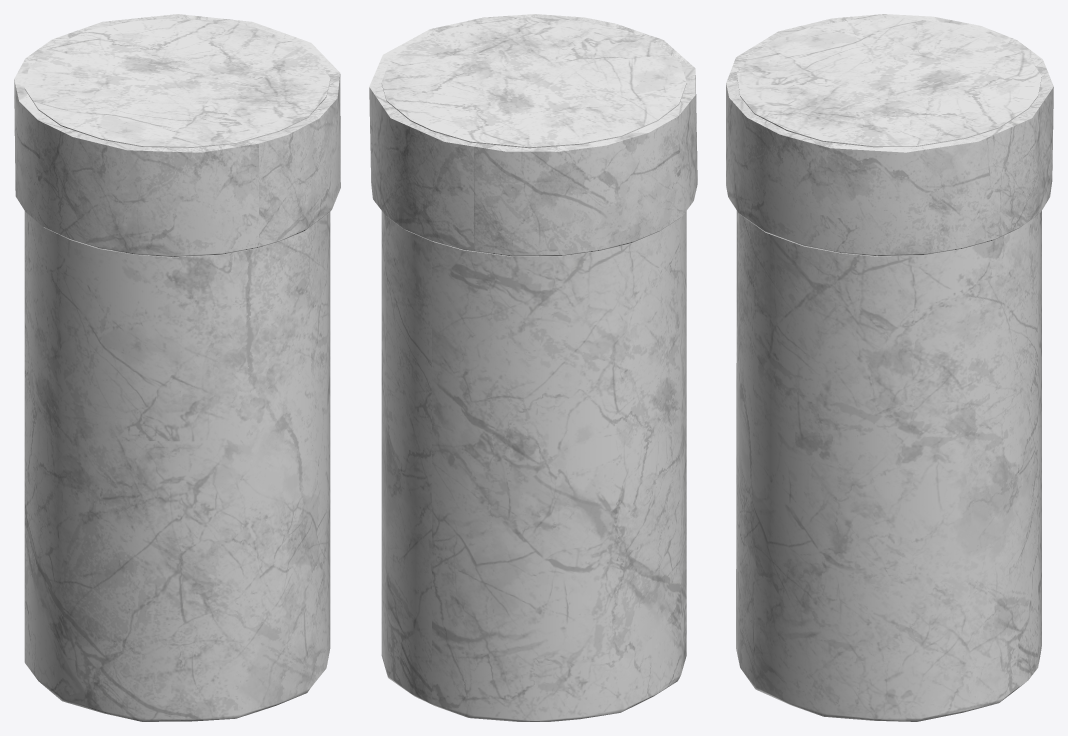
File: SM_Pillar_Cyl_End.fbx
3 views of the same model, side by side, from view 1: azimuth 30°, elevation 25°; view 2: azimuth 150°, elevation 25°; view 3: azimuth 270°, elevation 25° (orthographic).
Visible parts, largest first — view 1: SM_Pillar_Cyl_End_LOD0; view 2: SM_Pillar_Cyl_End_LOD0; view 3: SM_Pillar_Cyl_End_LOD0.
Boxes of the visible parts, x1,y1,x2,y2 form: SM_Pillar_Cyl_End_LOD0: [14, 14, 340, 721]; SM_Pillar_Cyl_End_LOD0: [369, 14, 697, 721]; SM_Pillar_Cyl_End_LOD0: [726, 14, 1053, 721].
Bounding box in the file's own units: 129 × 129 × 251.
Materials: 1 (1 with a texture image).
